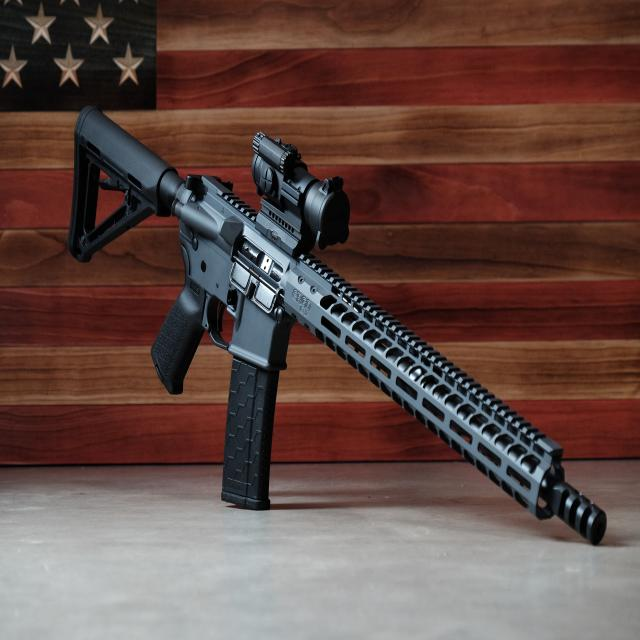Rifle: (69, 109, 609, 547)
